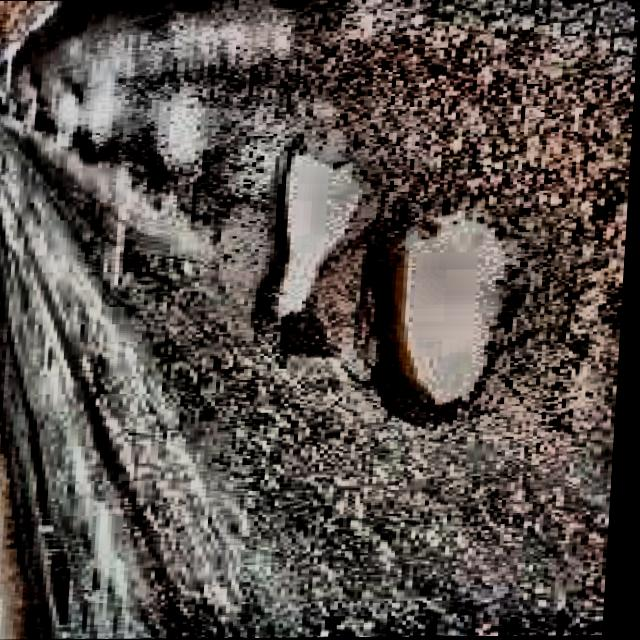pothole: (393, 212, 505, 401), (278, 152, 358, 313)
